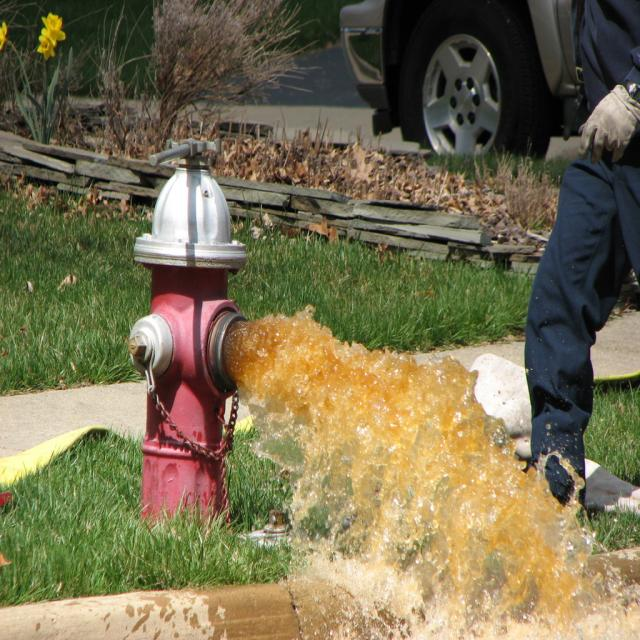fire_hydrant: (125, 146, 253, 545)
